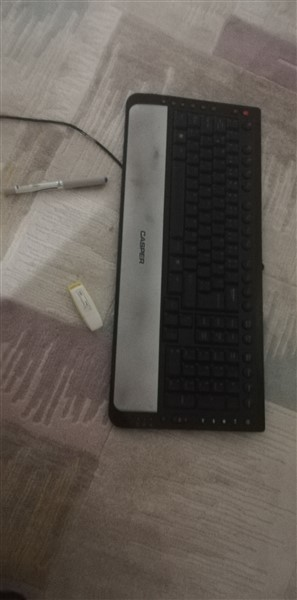flash disk: (61, 279, 108, 336)
klavye: (117, 89, 269, 437)
pilot kalem: (1, 172, 110, 211)
